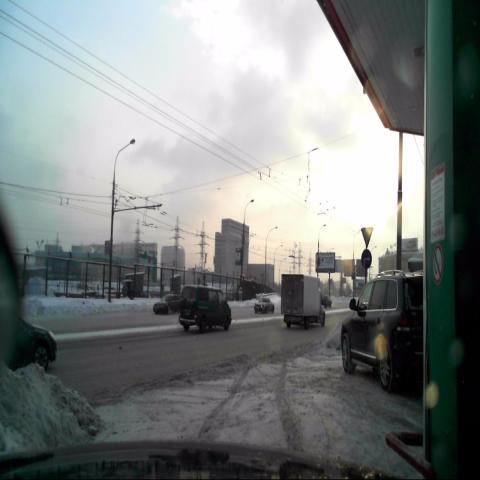4_1_2: (360, 248, 370, 270)
